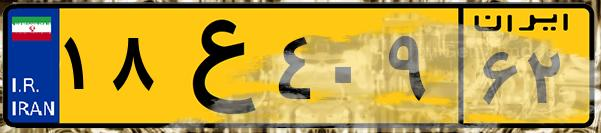0: (330, 28, 385, 110)
1: (57, 26, 110, 100)
2: (525, 38, 570, 115)
4: (270, 28, 330, 110)
6: (475, 38, 525, 113)
8: (110, 28, 158, 98)
9: (385, 28, 445, 110)
ع: (158, 12, 270, 120)
